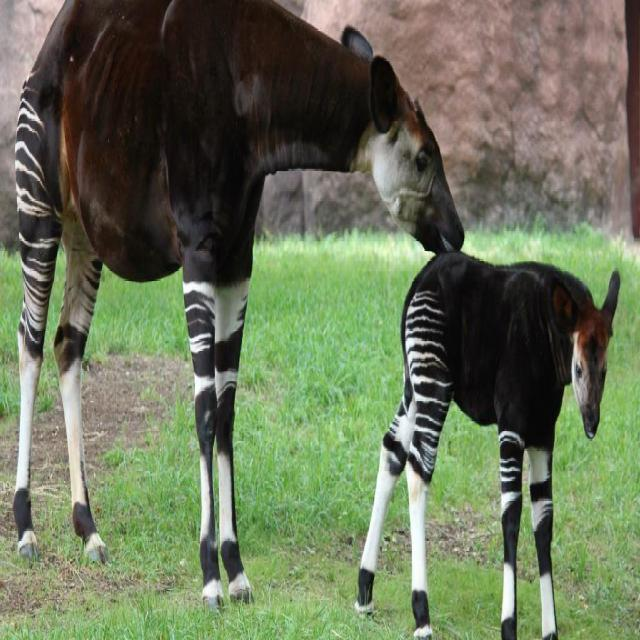Okapi: (4, 0, 469, 609), (354, 252, 626, 640)
